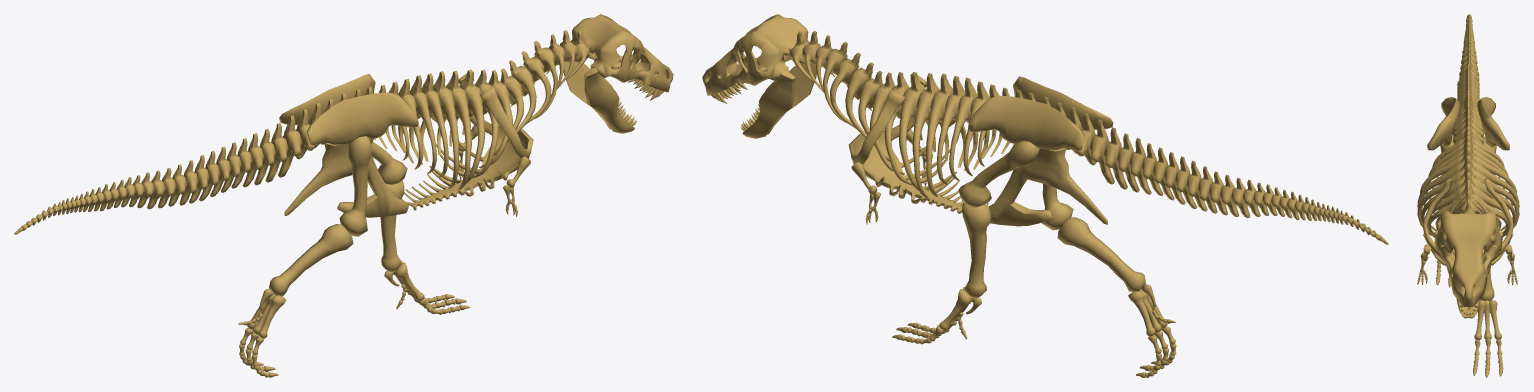
Rendered from dinosaur.fbx.
3 views of the same model, side by side, from view 1: azimuth 30°, elevation 25°; view 2: azimuth 150°, elevation 25°; view 3: azimuth 270°, elevation 25° (orthographic). The views are drawn at different scales.
Visible parts, largest first — view 1: vertebra.017, jaw; view 2: vertebra.017, jaw; view 3: vertebra.017, jaw.
Boxes of the visible parts, x1,y1,x2,y2 form: vertebra.017: (14, 14, 673, 377); jaw: (563, 61, 634, 133); vertebra.017: (702, 14, 1388, 377); jaw: (742, 63, 816, 138); vertebra.017: (1417, 14, 1519, 377); jaw: (1445, 250, 1491, 318).
Bounding box in the file's own units: 3748 × 1409 × 577.
